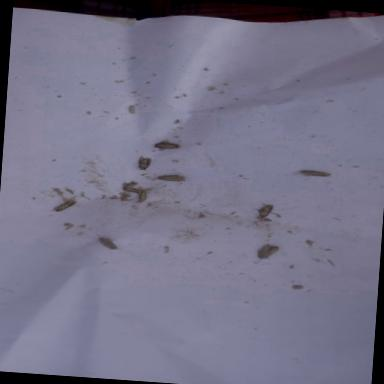pbw: (250, 243, 278, 266), (50, 193, 78, 213), (94, 234, 124, 252), (252, 202, 280, 218), (144, 172, 185, 182), (294, 169, 330, 178), (151, 142, 180, 150), (135, 188, 148, 204), (136, 156, 150, 170), (120, 186, 144, 194)
